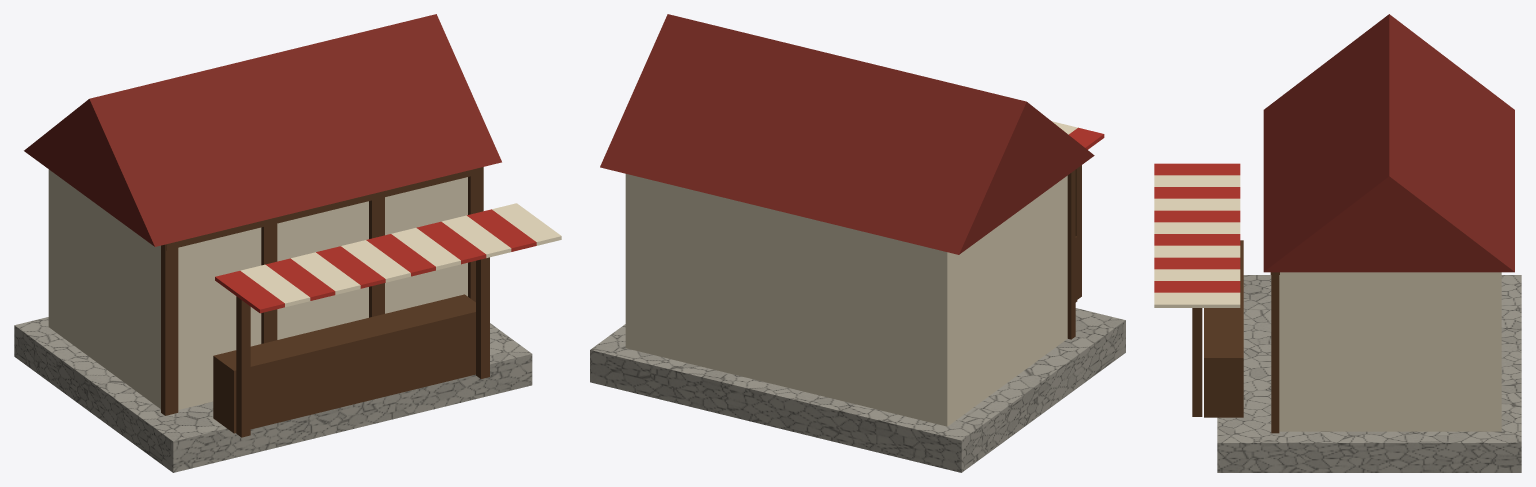
The model's file is ShopHouse.glb.
3 views of the same model, side by side, from view 1: azimuth 30°, elevation 25°; view 2: azimuth 150°, elevation 25°; view 3: azimuth 270°, elevation 25° (orthographic). The views are drawn at different scales.
Visible parts, largest first — view 1: ShopRoof, ShopWalls, ShopTimber, ShopBase, AwningA, AwningB; view 2: ShopWalls, ShopRoof, ShopBase, ShopTimber; view 3: ShopRoof, ShopWalls, ShopBase, ShopTimber, AwningB, AwningA.
Part boxes in pixels (left/top/right/bottom): ShopRoof: left=24, top=14, right=501, bottom=246; ShopWalls: left=48, top=169, right=467, bottom=409; ShopTimber: left=161, top=167, right=489, bottom=437; ShopBase: left=14, top=317, right=532, bottom=472; AwningA: left=215, top=209, right=536, bottom=313; AwningB: left=240, top=203, right=561, bottom=307; ShopWalls: left=625, top=174, right=1067, bottom=426; ShopRoof: left=600, top=14, right=1094, bottom=254; ShopBase: left=590, top=308, right=1125, bottom=472; ShopTimber: left=1067, top=165, right=1081, bottom=339; ShopRoof: left=1263, top=14, right=1514, bottom=272; ShopWalls: left=1279, top=272, right=1501, bottom=431; ShopBase: left=1217, top=275, right=1521, bottom=472; ShopTimber: left=1192, top=240, right=1279, bottom=433; AwningB: left=1154, top=175, right=1240, bottom=307; AwningA: left=1154, top=163, right=1240, bottom=292.
Bounding box in the file's own units: 6 × 4.9 × 5.55.
Materials: 6 (1 with a texture image).
